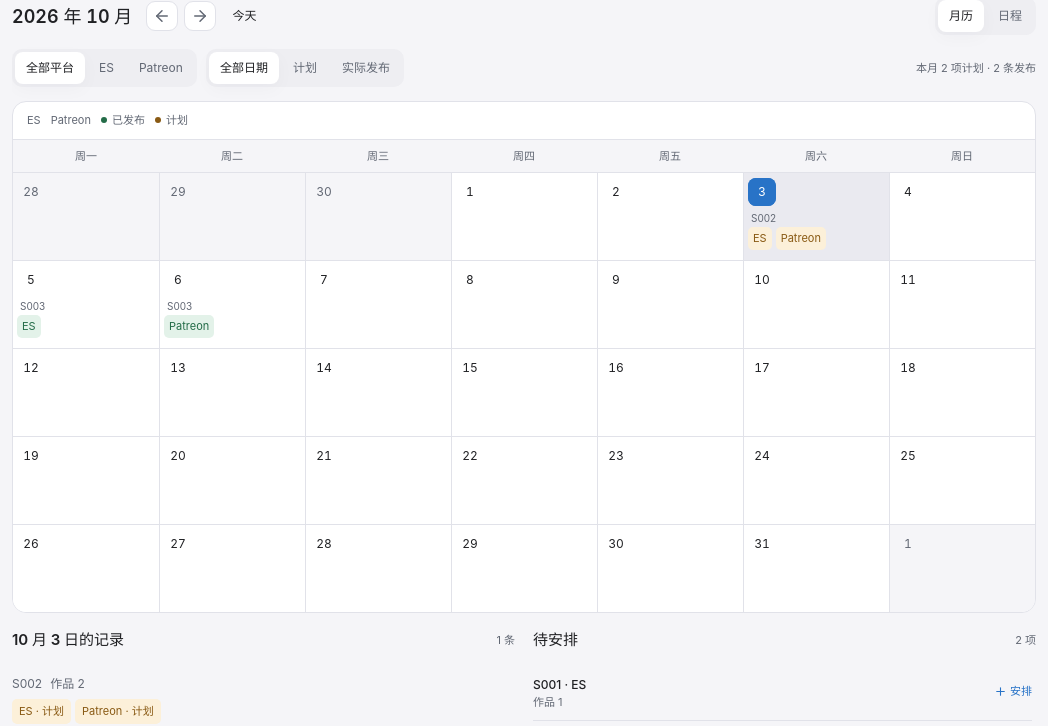
Scenario: removes one platform plan and restores it using the persisted undo operation
Click the button with aria-label "S002 ES 计划 2026-10-03": x=760, y=238 [748, 227, 772, 250]
(page scrolled)
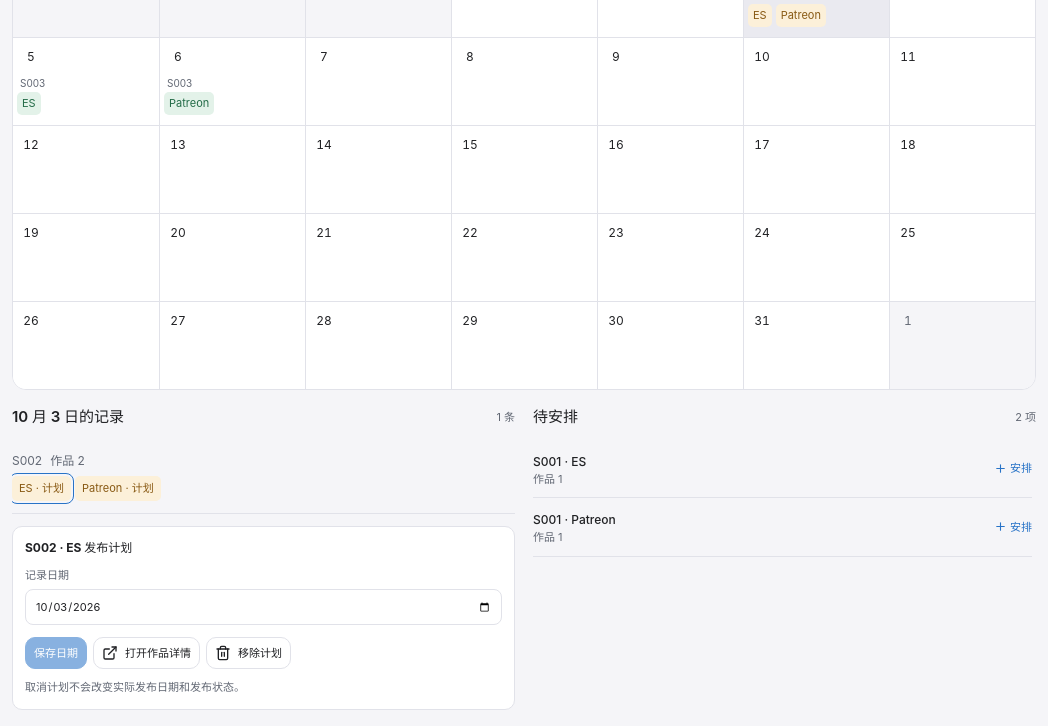
Click the button "移除计划": x=248, y=653 [206, 637, 291, 669]
(page scrolled)
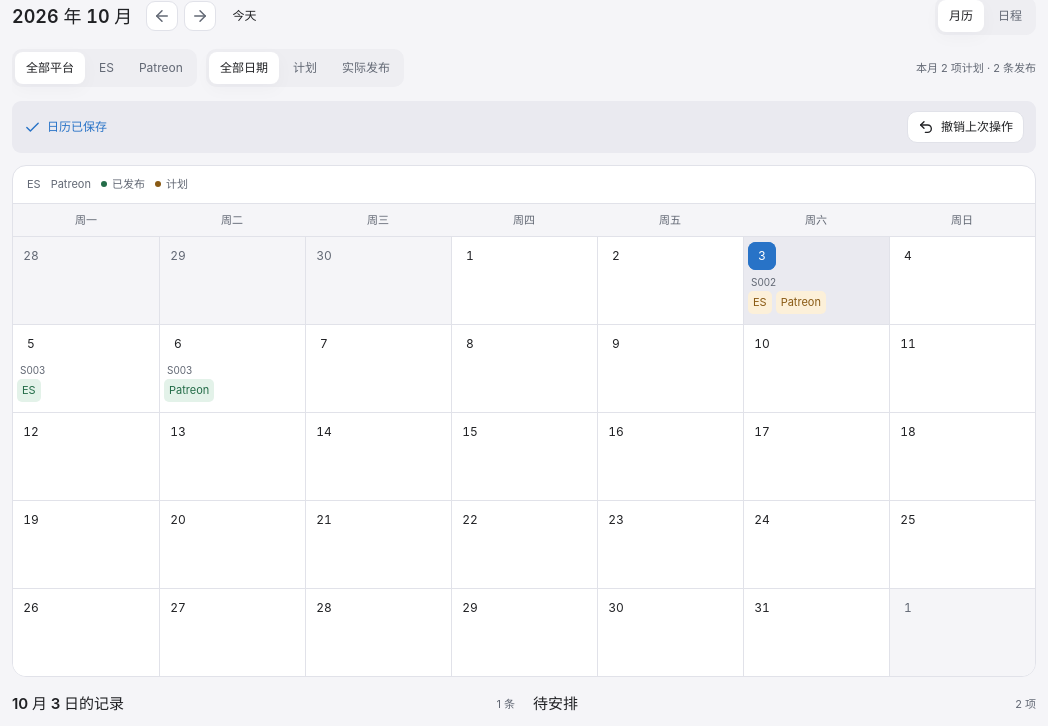
Expected: the button "撤销上次操作" is enabled
Click the button "撤销上次操作": x=966, y=127 [907, 111, 1024, 143]
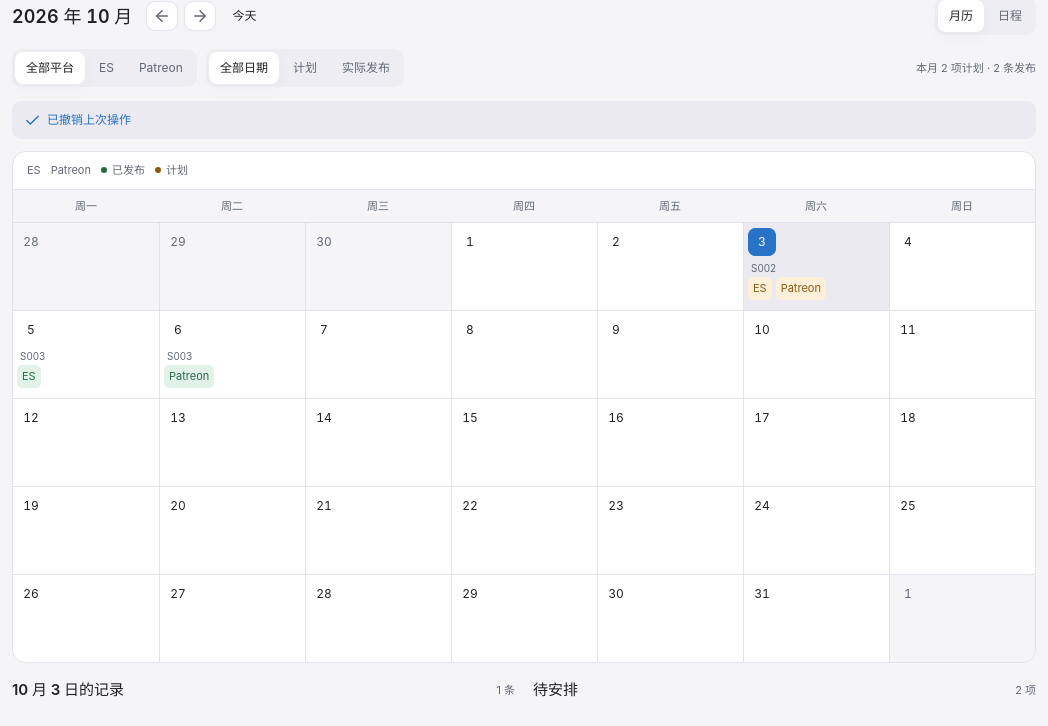
Expected: the text "已撤销上次操作" is shown, [24, 111, 131, 129]
